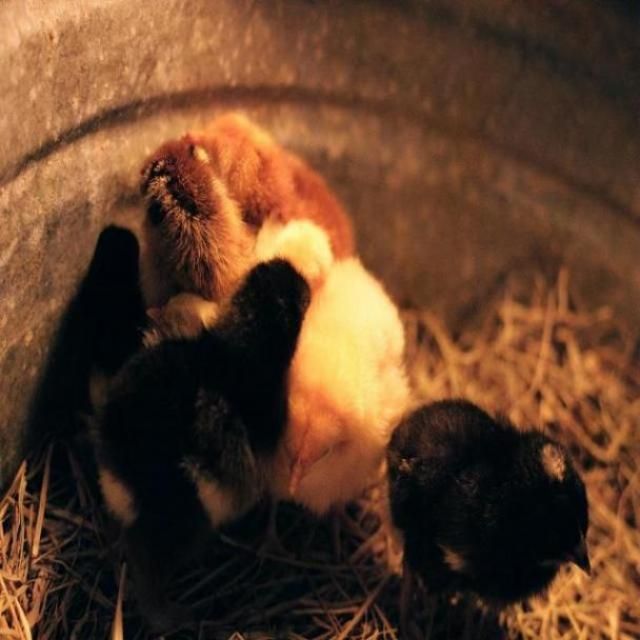Chicken: (387, 387, 586, 640)
